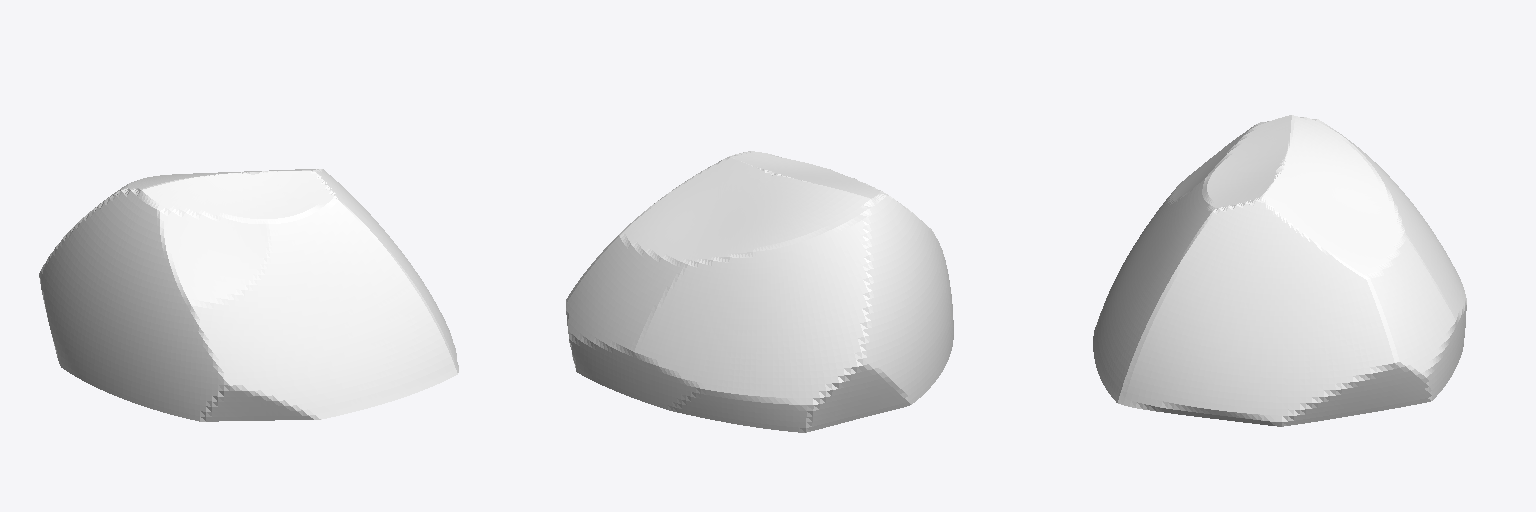
Rendered from stein.obj.
3 renders of one model, left to right at view 1: azimuth 30°, elevation 25°; view 2: azimuth 150°, elevation 25°; view 3: azimuth 270°, elevation 25°, orthographic.
Visible parts, largest first — view 1: Kugel; view 2: Kugel; view 3: Kugel.
Part boxes in pixels (x1,y1,x2,y2): Kugel: (39, 169, 458, 421); Kugel: (566, 151, 953, 432); Kugel: (1093, 115, 1466, 426).
Size of the model in its own units: 57.76 by 29.05 by 55.22.